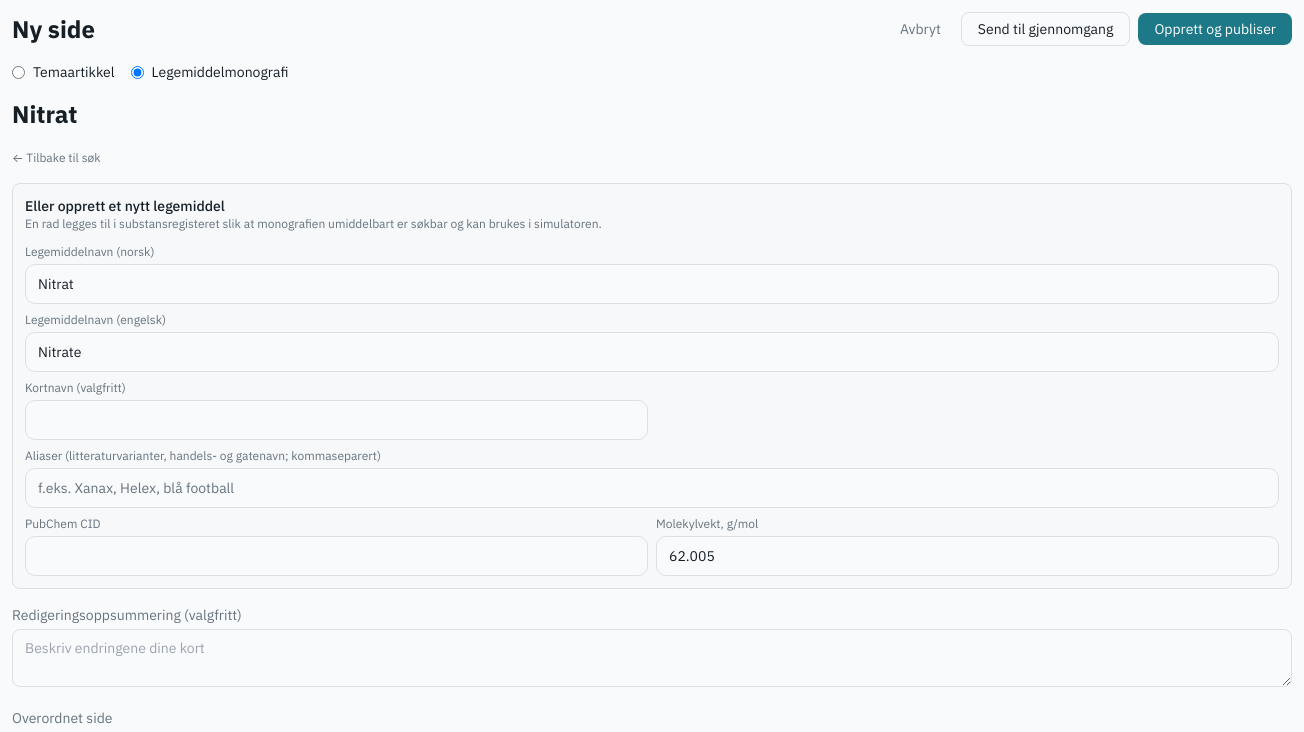
Test: WikiEditor molecular weight › re-arms the prompt when the resolved text is edited
The width and height of the screenshot is (1304, 732).
Replace the text in the field labelled "Molekylvekt, g/mol" with "162.005" at {"x": 968, "y": 556}, box [656,536,1279,576]
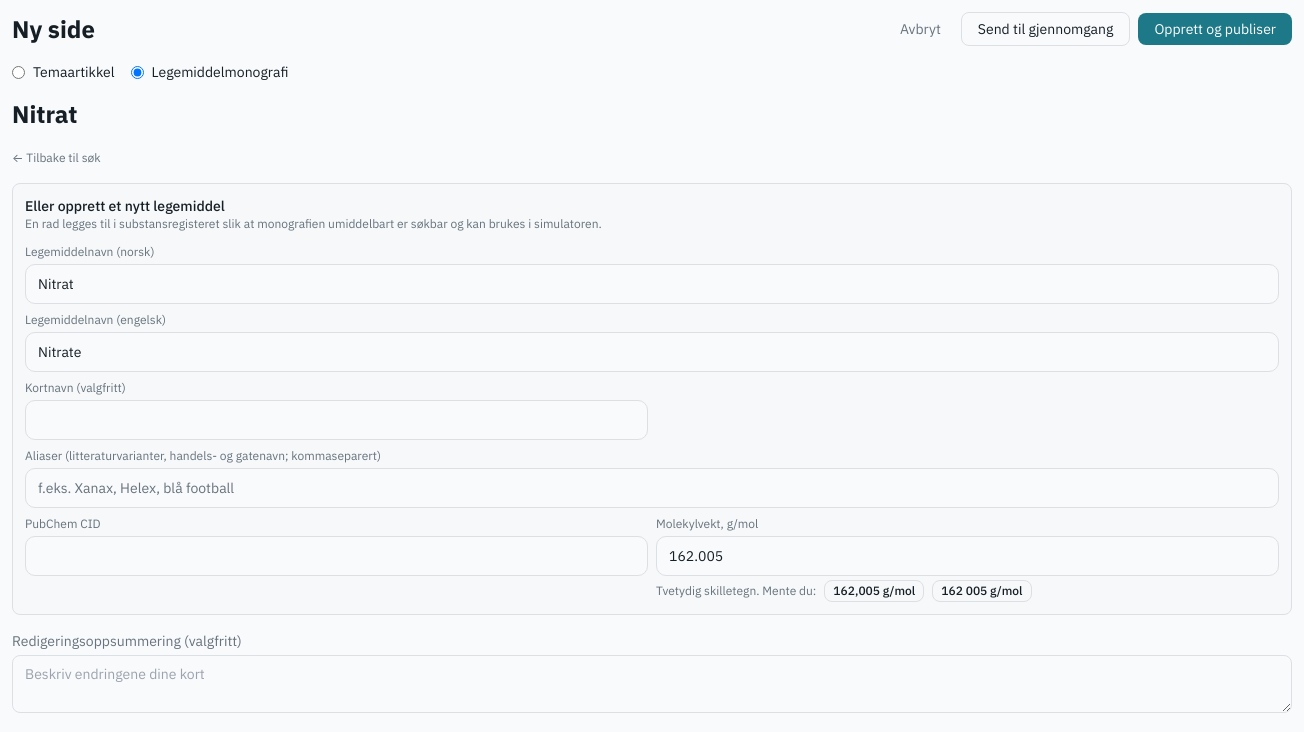
Expected: the text "Tvetydig skilletegn. Mente du:" is shown, [656,583,816,598]
